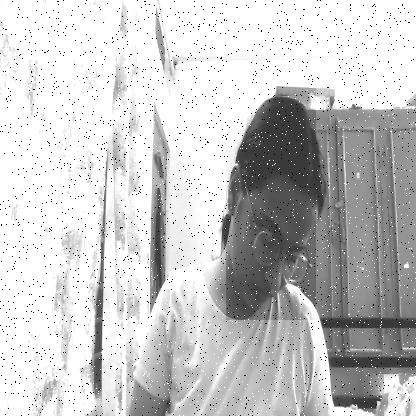Distracted: (226, 85, 316, 320)
